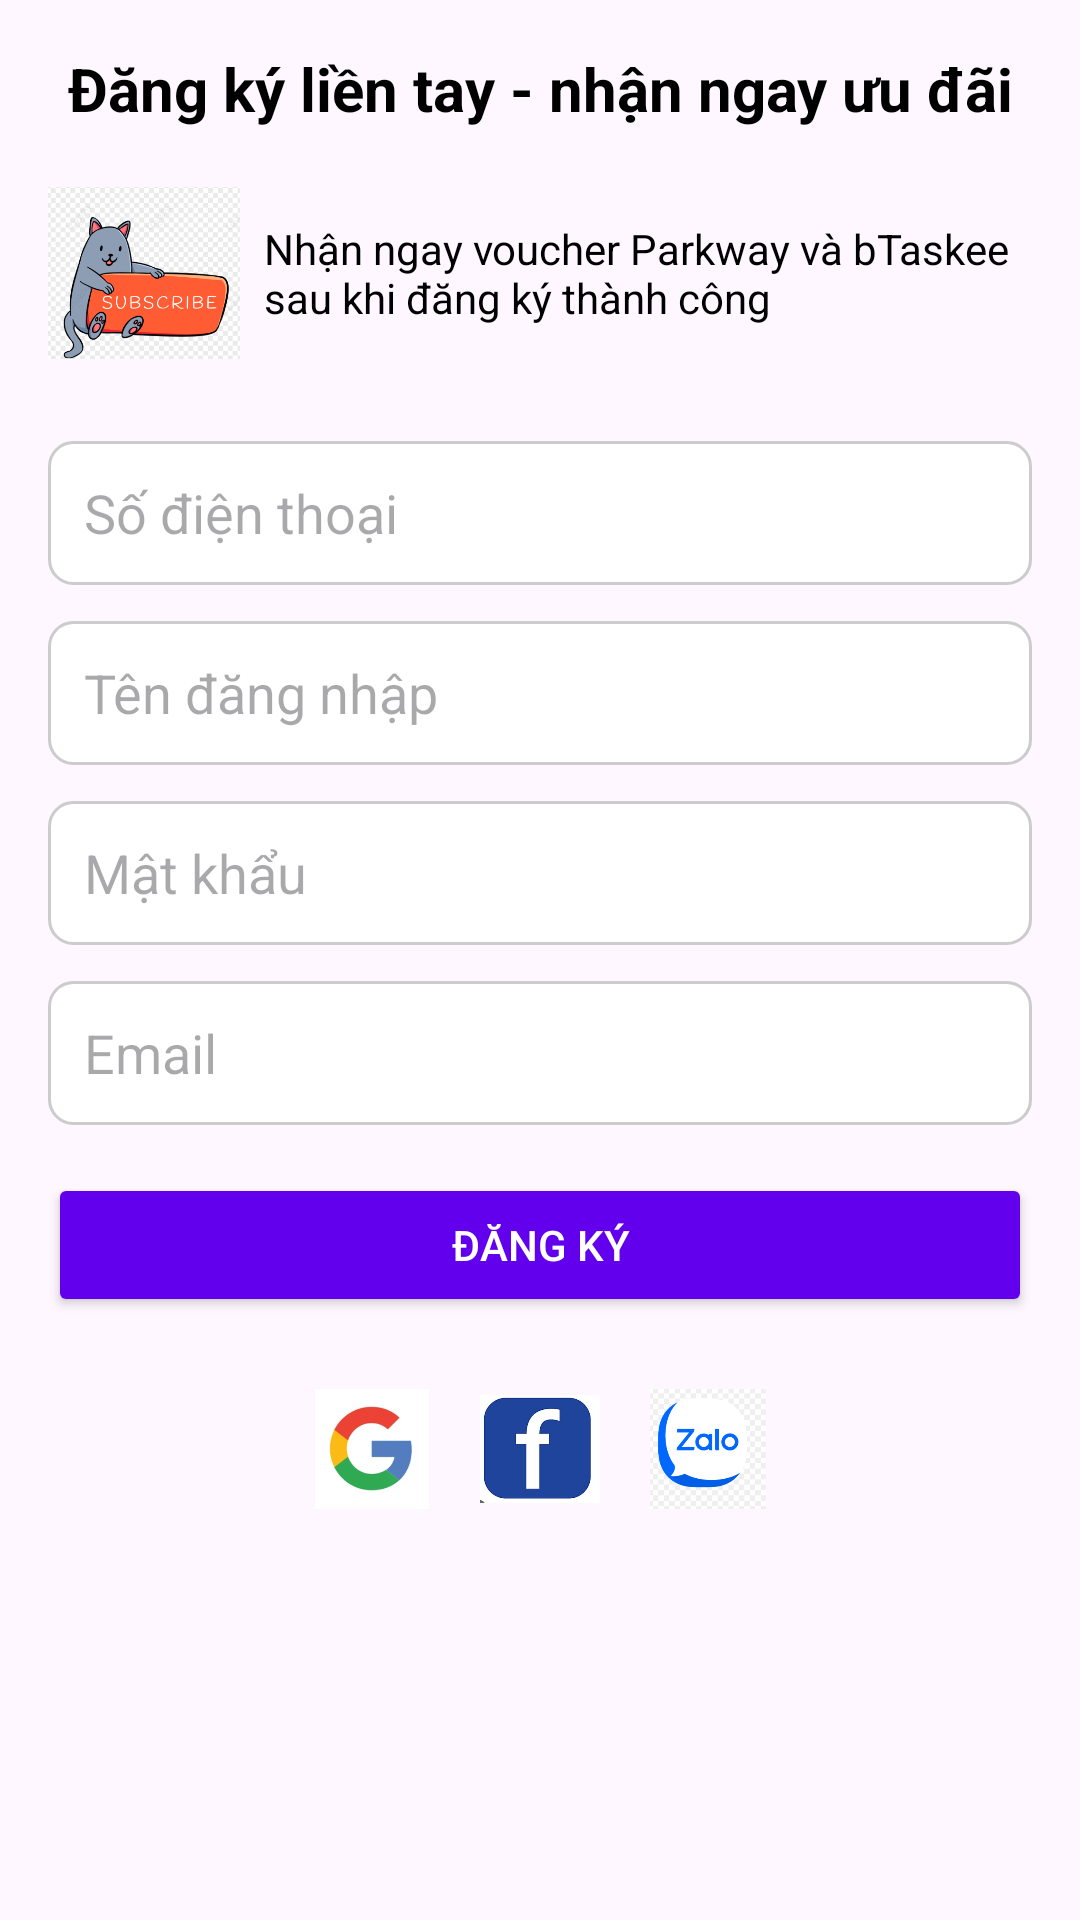

Point at icon controls on the screen. Image size 1080px×1920px, points as (x=x, y=y).
Ảnh con vật dễ thương: (x=144, y=273)
